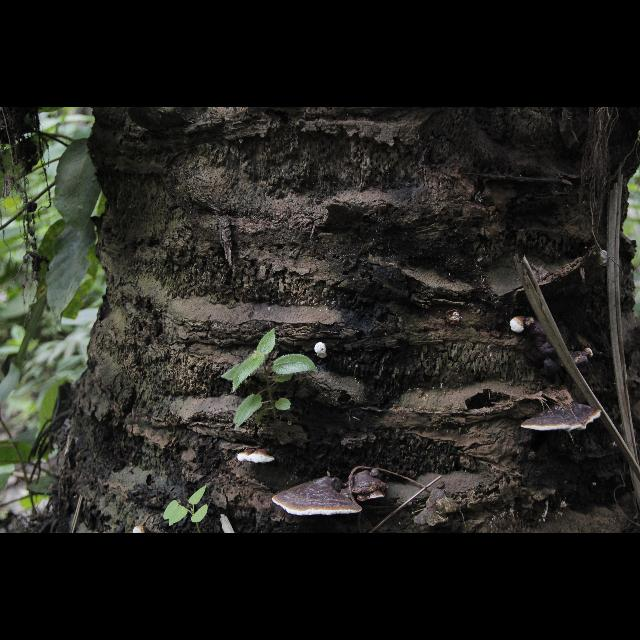ganoderma: (272, 478, 365, 518), (528, 317, 589, 375), (521, 400, 603, 435), (349, 469, 391, 503), (237, 449, 278, 466)
primordium: (511, 317, 528, 336), (315, 344, 330, 361), (600, 250, 610, 268), (585, 348, 596, 358)
